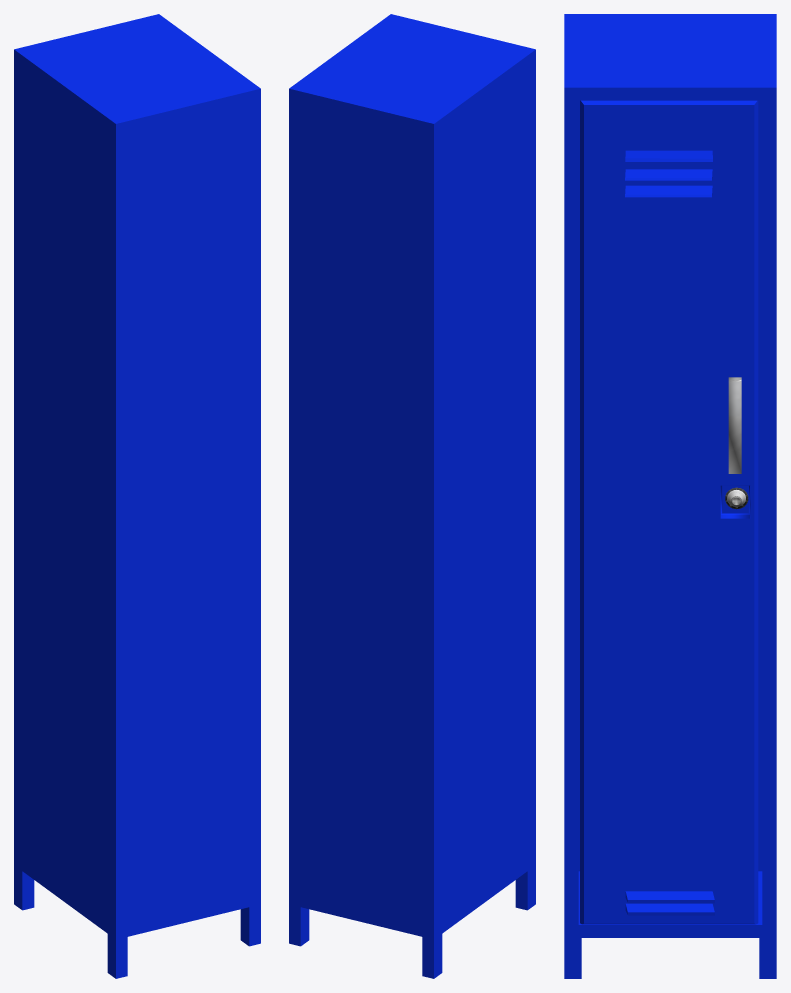
Rendered from school.fbx_locker_stand.fbx.
3 renders of one model, left to right at view 1: azimuth 30°, elevation 25°; view 2: azimuth 150°, elevation 25°; view 3: azimuth 270°, elevation 25°, orthographic. The views are drawn at different scales.
Parts seen in each view (by area): view 1: Locker_c; view 2: Locker_c; view 3: Lockerdoor_q, Locker_c, Locker_c.001, Plane.003.
Part boxes in pixels (x1,y1,x2,y2): Locker_c: (14,14,260,978); Locker_c: (289,14,535,978); Lockerdoor_q: (580,100,758,924); Locker_c: (564,14,776,978); Locker_c.001: (578,100,762,919); Plane.003: (728,377,741,473).
Bounding box in the file's own units: 78.87 × 421 × 90.95.
